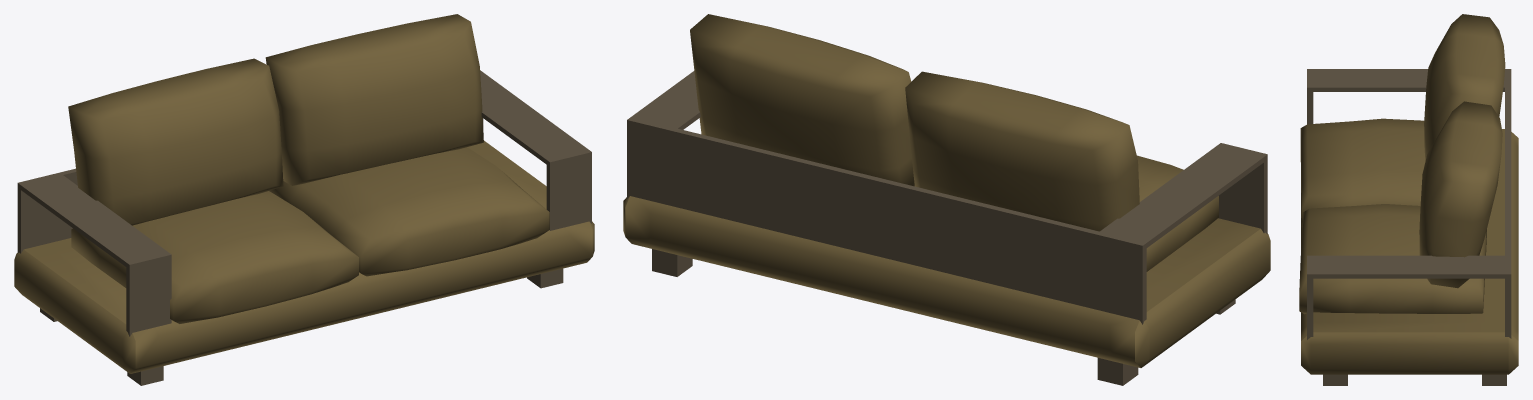
File: couch_medium2.glb
The picture shows the model from 3 angles, left to right: view 1: azimuth 30°, elevation 25°; view 2: azimuth 150°, elevation 25°; view 3: azimuth 270°, elevation 25°; orthographic projection. The views are drawn at different scales.
Parts seen in each view (by area): view 1: Couch_Medium2; view 2: Couch_Medium2; view 3: Couch_Medium2.
Part boxes in pixels (x1,y1,x2,y2): Couch_Medium2: (14, 14, 594, 385); Couch_Medium2: (623, 14, 1270, 385); Couch_Medium2: (1299, 14, 1518, 385).
Size of the model in its own units: 4.52 by 1.96 by 2.
